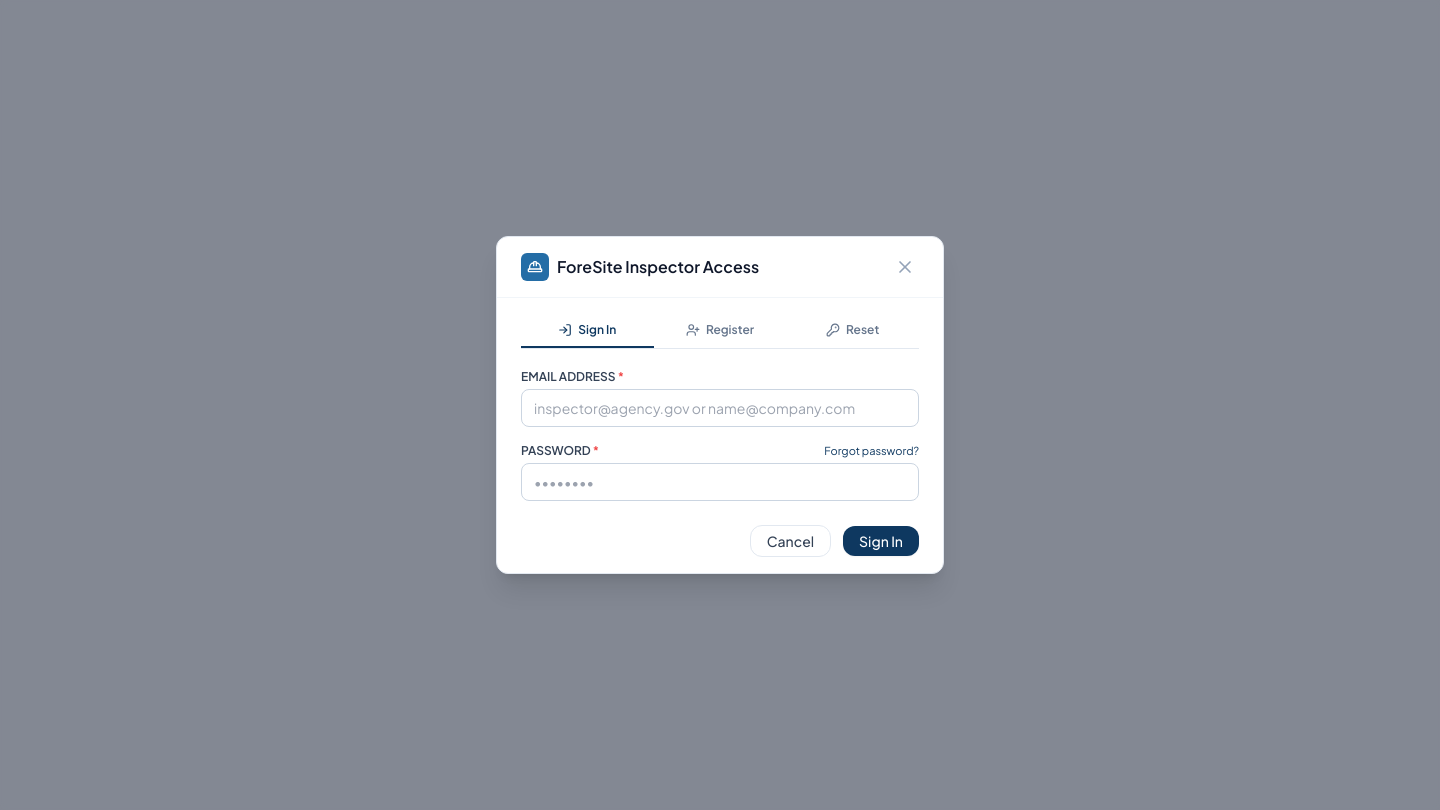
Test: ForeSite Inspector Auth Modal UI › switches to Reset tab when clicked and displays reset instructions
Click the button "Reset" at (853, 331), box [786,314,919,348]
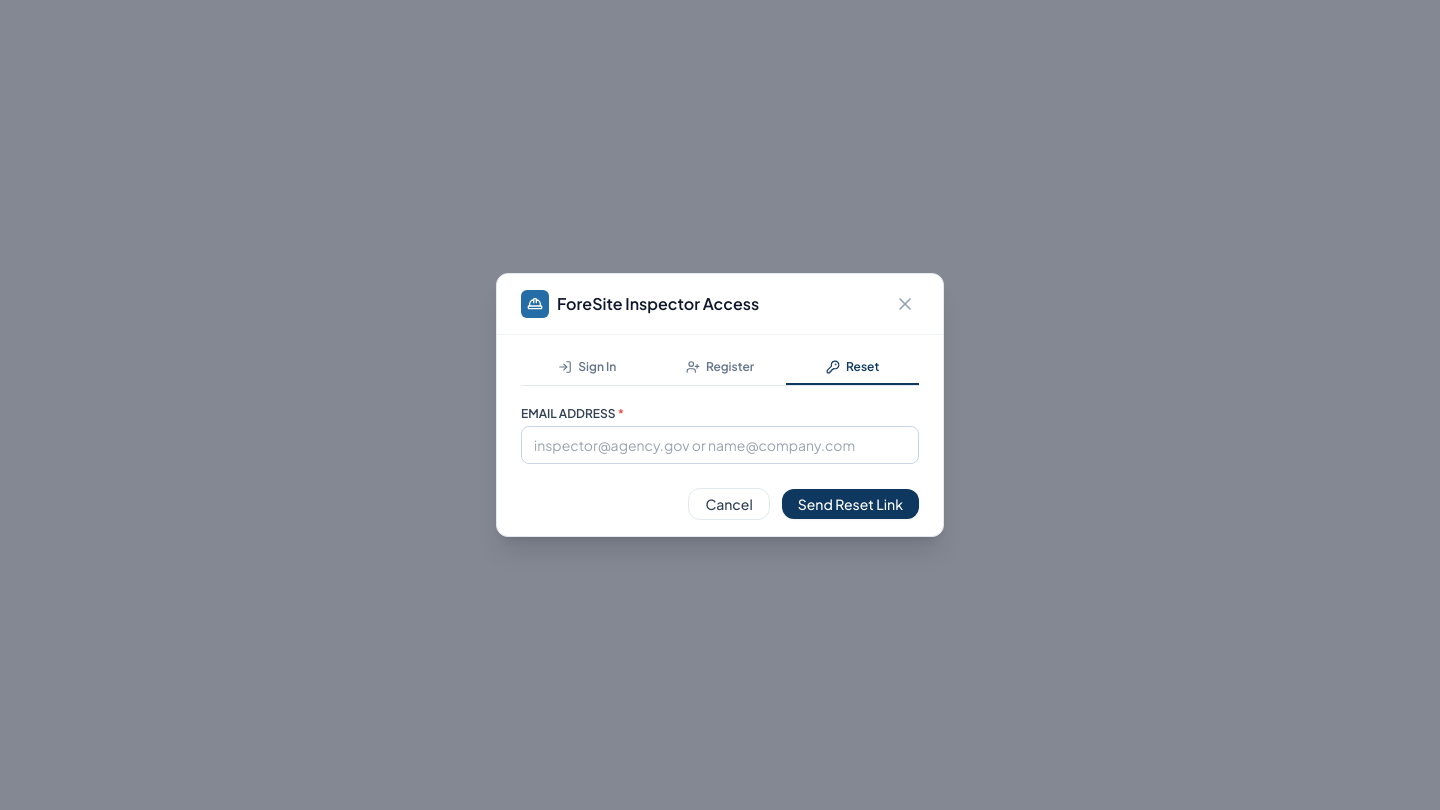
Check: the field labelled "Email Address *" is shown, box [521,426,919,464]
Check: the button "Send Reset Link" is shown, box [782,489,919,519]
Check: the label labelled "Password" is gone
